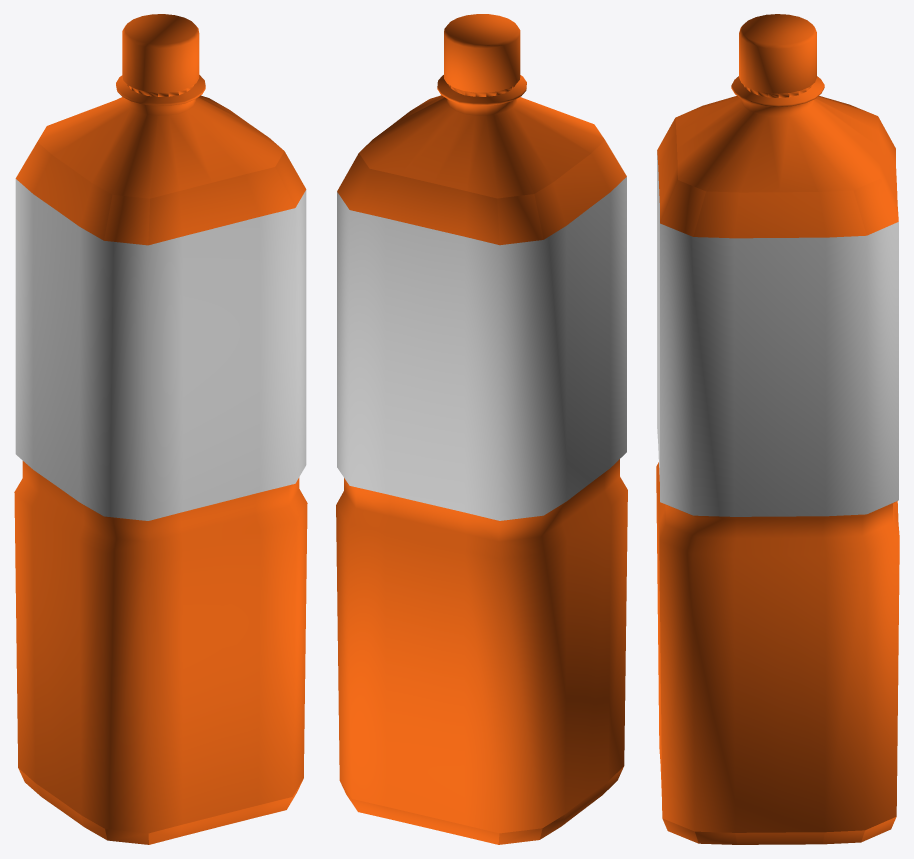
File: Fresh Orange.fbx
3 views of the same model, side by side, from view 1: azimuth 30°, elevation 25°; view 2: azimuth 150°, elevation 25°; view 3: azimuth 270°, elevation 25° (orthographic).
Parts seen in each view (by area): view 1: Node 0; view 2: Node 0; view 3: Node 0.
Boxes of the visible parts, x1,y1,x2,y2 form: Node 0: (14, 14, 307, 844); Node 0: (336, 14, 627, 844); Node 0: (656, 14, 899, 844).
Bounding box in the file's own units: 0.0658 × 0.2283 × 0.0674.
